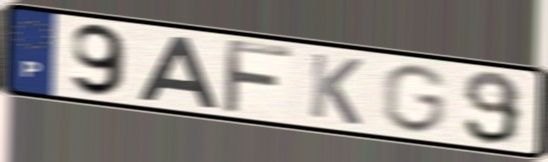9: (461, 69, 523, 148), (69, 22, 131, 98)
A: (135, 34, 221, 110)
F: (218, 36, 296, 117)
G: (378, 62, 451, 136)
K: (306, 50, 366, 129)
